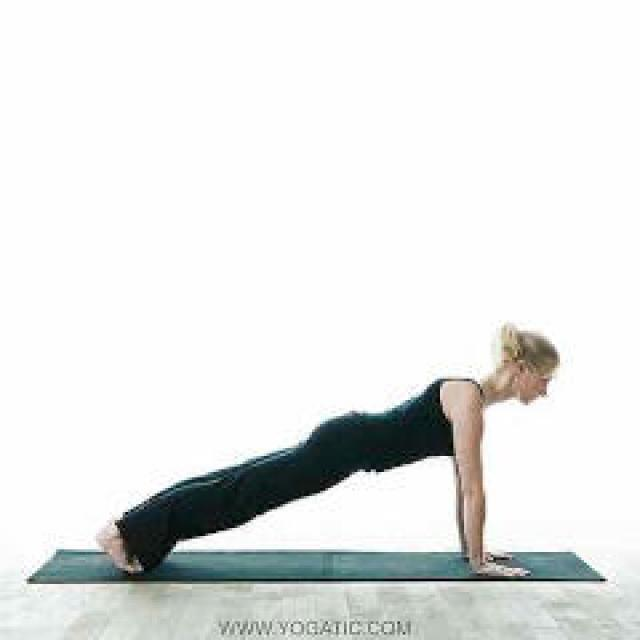yoga-pose plank: (98, 333, 562, 579)
